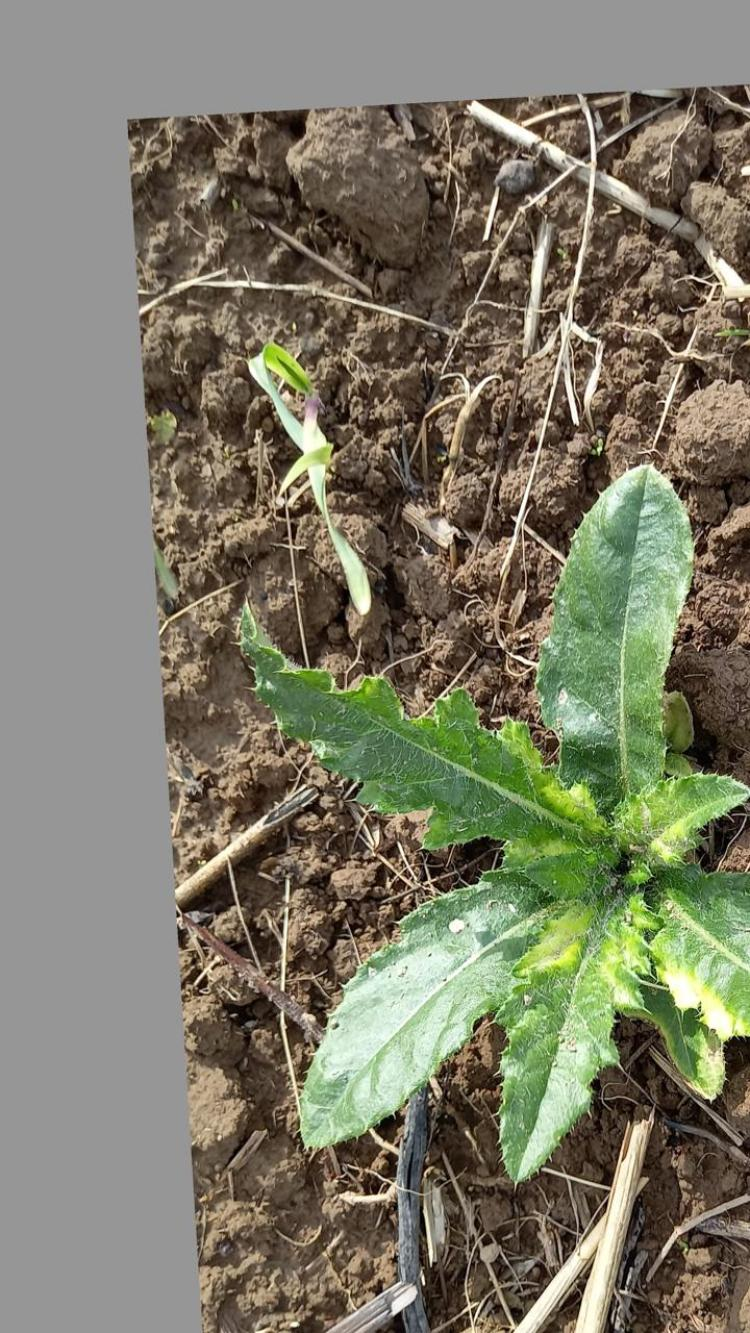bodyak: (225, 456, 750, 1200)
